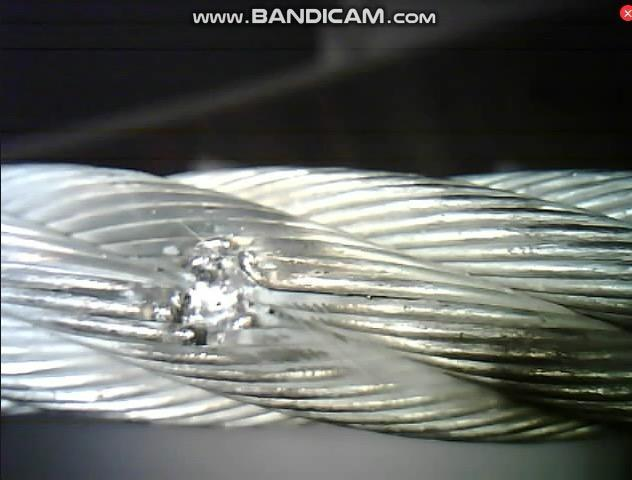thunderbolt: (140, 223, 289, 357)
